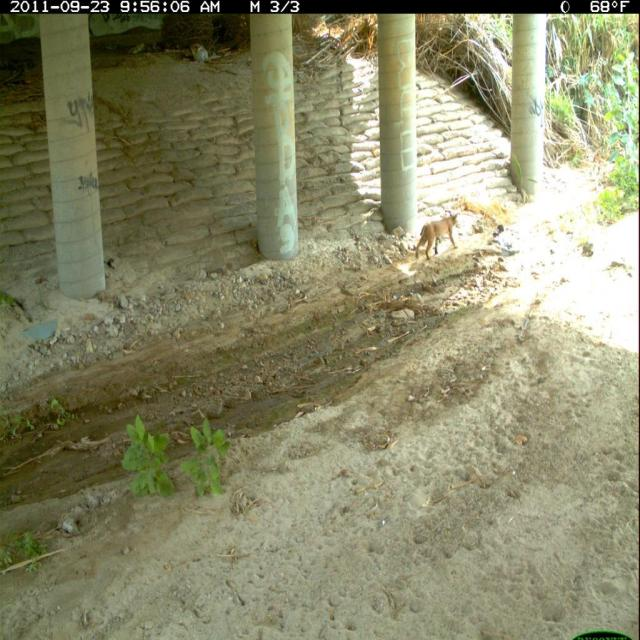bobcat: (410, 207, 464, 267)
